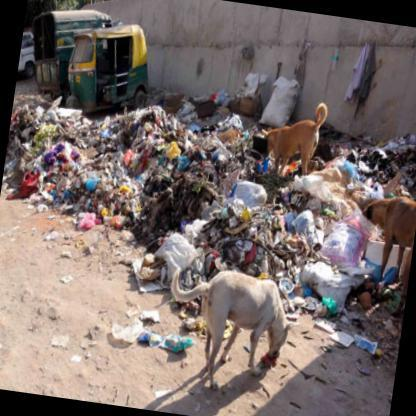Garbage: (46, 107, 191, 272), (52, 132, 148, 262), (96, 314, 190, 372), (12, 134, 71, 218), (71, 196, 129, 249), (218, 176, 275, 228), (366, 122, 414, 164), (138, 239, 193, 272), (284, 203, 320, 245), (254, 223, 284, 258), (221, 228, 258, 256)
